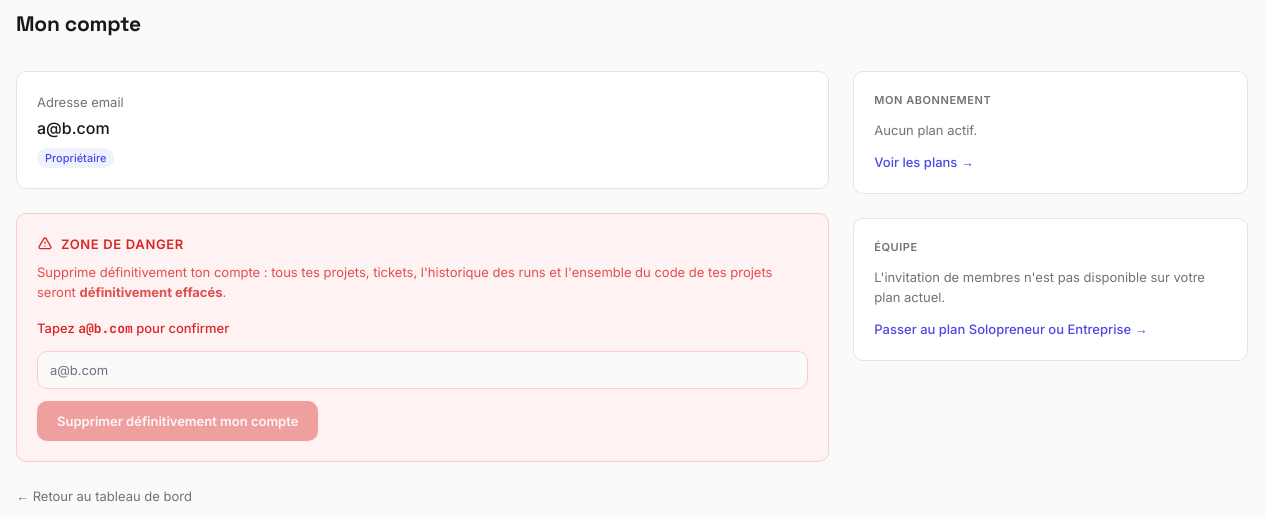
Test: AccountSettingsPage › keeps the delete button disabled until the email is typed exactly
The image size is (1265, 519).
Check: the text with test id "account-email" reads "a@b.com", box [37,118,110,138]
Check: the button "Supprimer définitivement mon compte" is disabled, box [37,401,318,441]
Type "wrong@email.com" into the field with placeholder "a@b.com" at (423, 370), box [37,351,808,389]
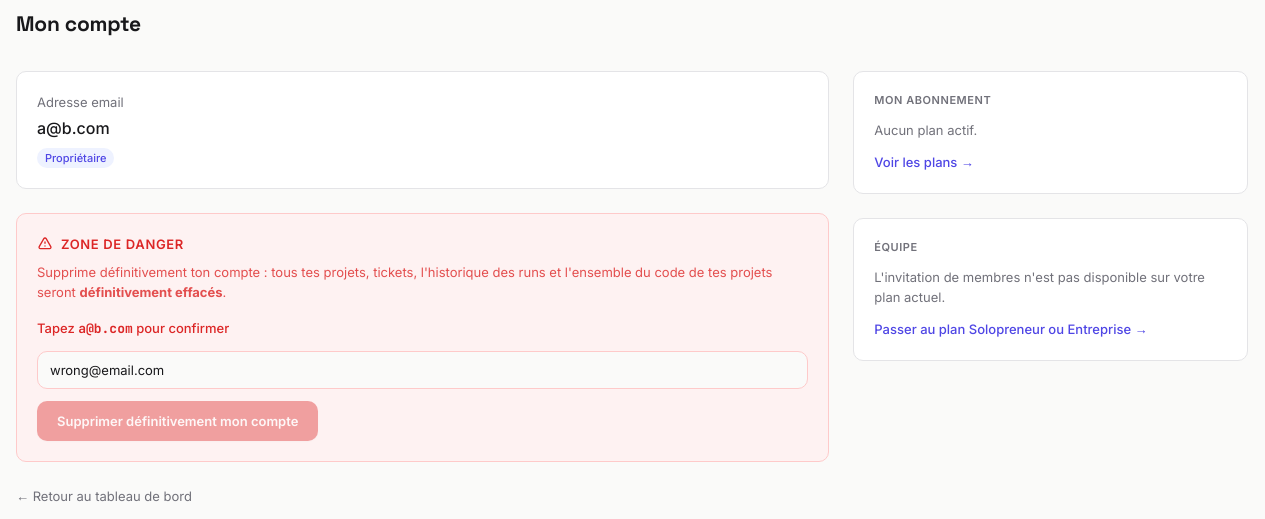
Check: the button "Supprimer définitivement mon compte" is disabled, box [37,401,318,441]
Replace the text in the field with placeholder "a@b.com" with "a@b.com" at (423, 370), box [37,351,808,389]
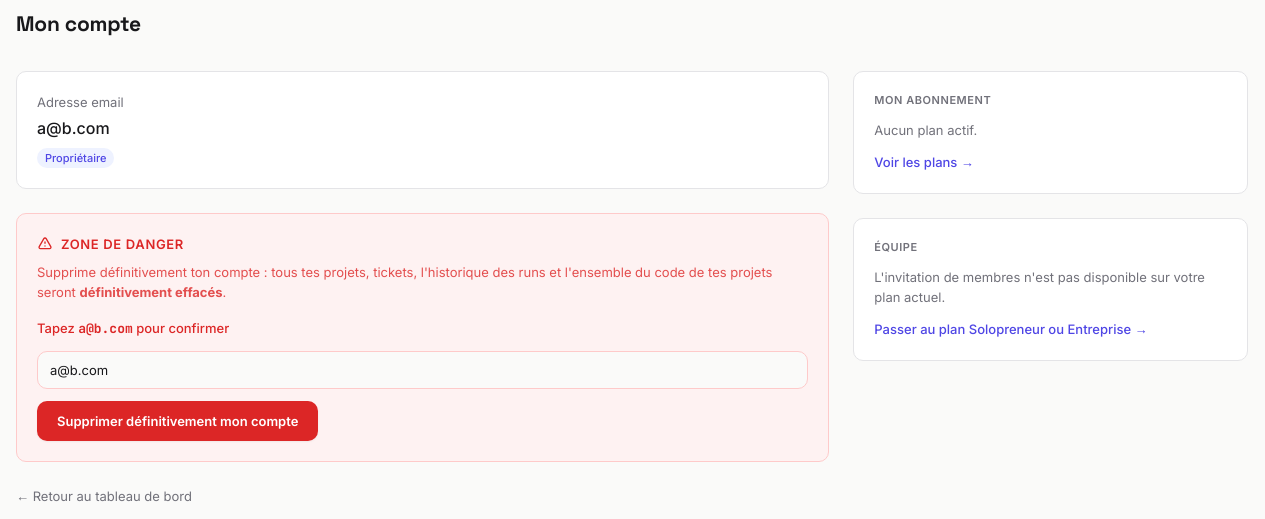
Check: the button "Supprimer définitivement mon compte" is enabled, box [37,401,318,441]
